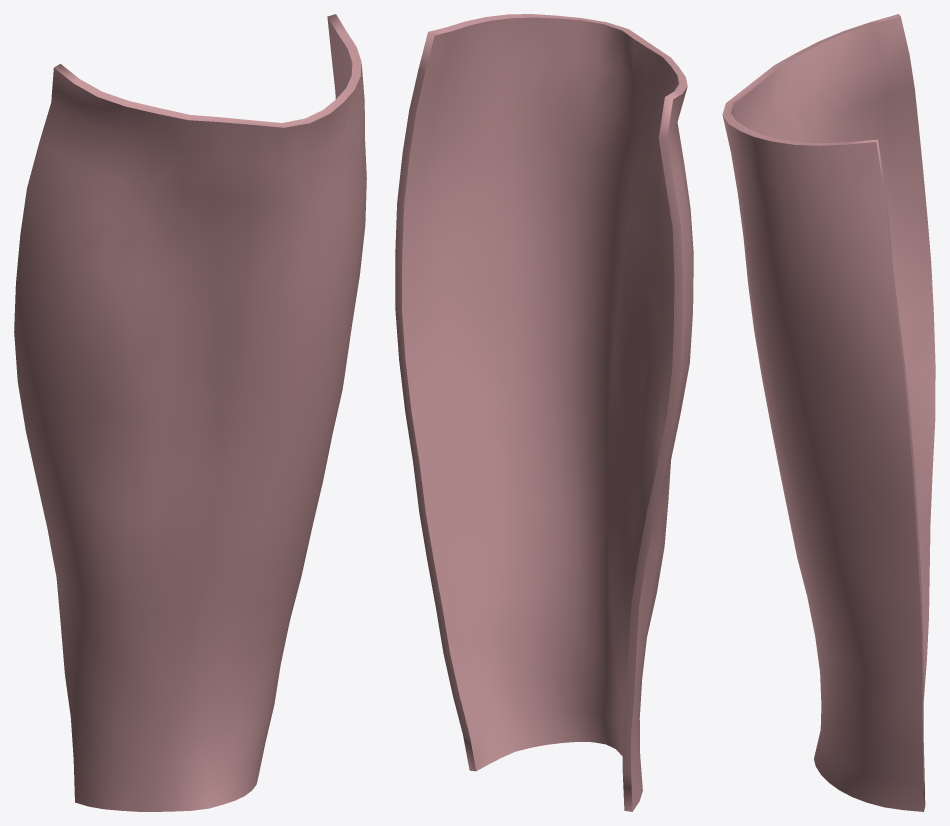
3 renders of one model, left to right at view 1: azimuth 30°, elevation 25°; view 2: azimuth 150°, elevation 25°; view 3: azimuth 270°, elevation 25°, orthographic. The views are drawn at different scales.
Parts seen in each view (by area): view 1: ZA_ee1a12fbaaa505b5; view 2: ZA_ee1a12fbaaa505b5; view 3: ZA_ee1a12fbaaa505b5.
Boxes of the visible parts, <box> form: ZA_ee1a12fbaaa505b5: <box>14,14,366,811</box>; ZA_ee1a12fbaaa505b5: <box>395,14,693,811</box>; ZA_ee1a12fbaaa505b5: <box>722,14,935,811</box>.
Size of the model in its own units: 0.1182 by 0.2693 by 0.0732.
